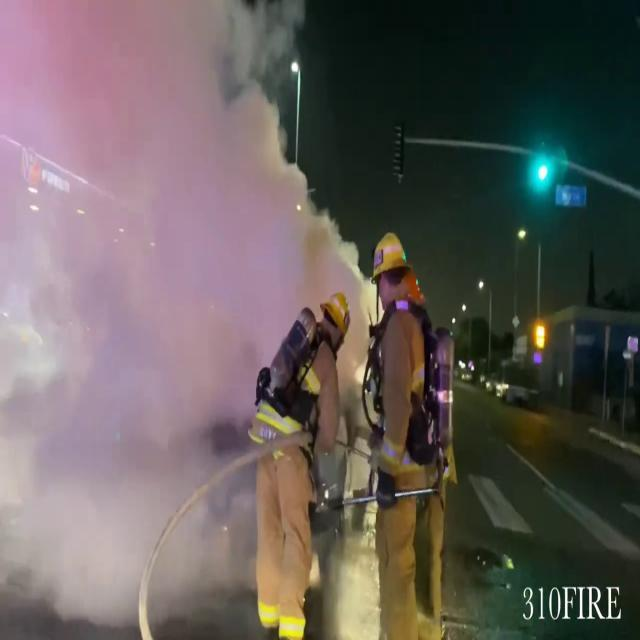Smoke: (0, 0, 320, 625)
